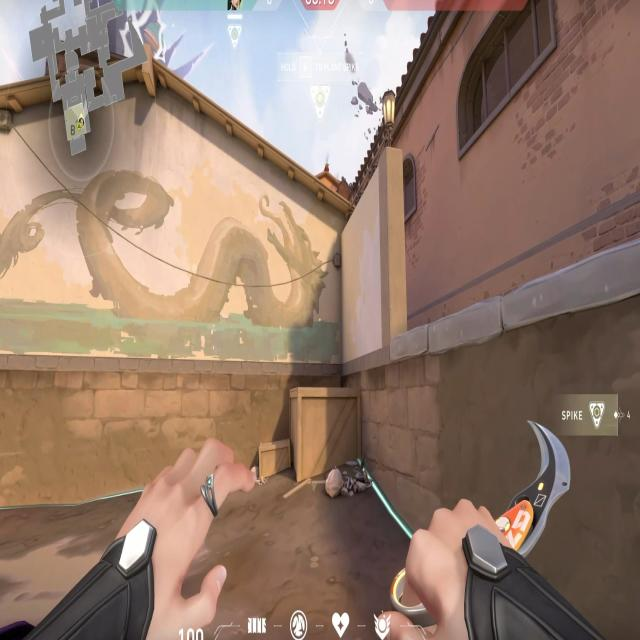Throwables: (452, 0, 567, 153)
